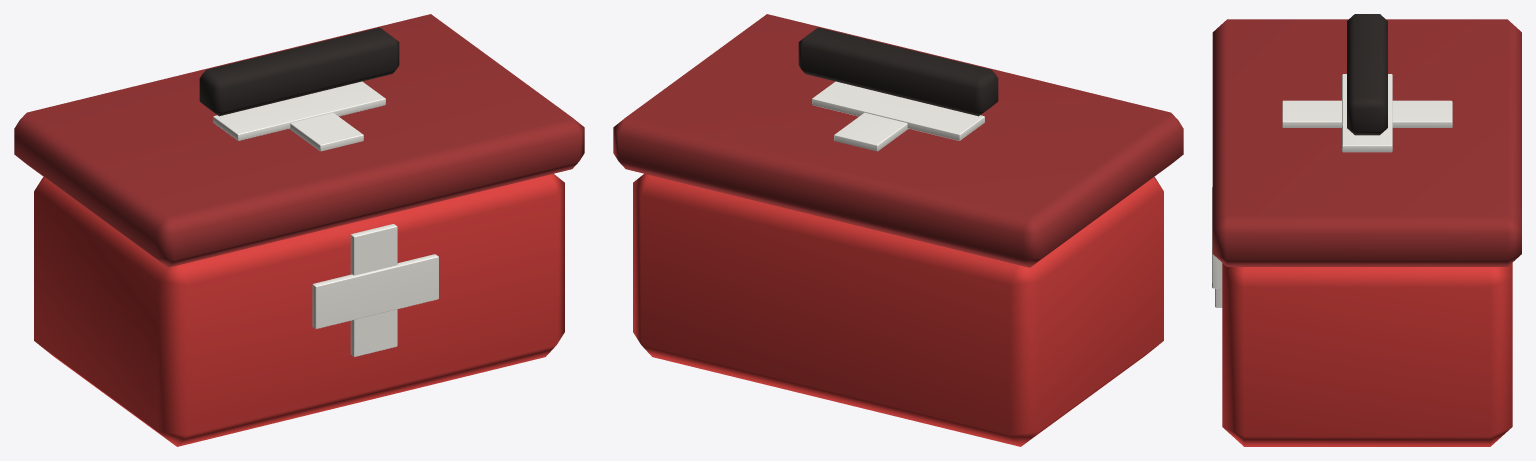
The model's file is RS_09_loot_medkit_LOD2.glb.
3 views of the same model, side by side, from view 1: azimuth 30°, elevation 25°; view 2: azimuth 150°, elevation 25°; view 3: azimuth 270°, elevation 25° (orthographic).
Visible parts, largest first — view 1: medkit_case_body, medkit_soft_lid, medkit_handle, front_white_cross_horizontal, top_white_cross_horizontal, front_white_cross_vertical, top_white_cross_vertical; view 2: medkit_case_body, medkit_soft_lid, medkit_handle, top_white_cross_horizontal, top_white_cross_vertical; view 3: medkit_soft_lid, medkit_case_body, medkit_handle, top_white_cross_vertical, top_white_cross_horizontal, front_white_cross_horizontal.
Boxes of the visible parts, x1,y1,x2,y2 form: medkit_case_body: [34, 173, 564, 446]; medkit_soft_lid: [14, 14, 584, 267]; medkit_handle: [199, 27, 399, 116]; front_white_cross_horizontal: [312, 254, 438, 328]; top_white_cross_horizontal: [213, 81, 385, 140]; front_white_cross_vertical: [350, 224, 397, 356]; top_white_cross_vertical: [289, 112, 363, 151]; medkit_case_body: [633, 173, 1163, 446]; medkit_soft_lid: [613, 14, 1183, 267]; medkit_handle: [798, 27, 998, 116]; top_white_cross_horizontal: [812, 81, 984, 140]; top_white_cross_vertical: [834, 112, 908, 151]; medkit_soft_lid: [1212, 19, 1521, 266]; medkit_case_body: [1222, 263, 1512, 446]; medkit_handle: [1347, 14, 1387, 135]; top_white_cross_vertical: [1282, 100, 1452, 127]; top_white_cross_horizontal: [1342, 74, 1392, 152]; front_white_cross_horizontal: [1212, 187, 1219, 288].
Bounding box in the file's own units: 1.56 × 1.06 × 0.9825.
